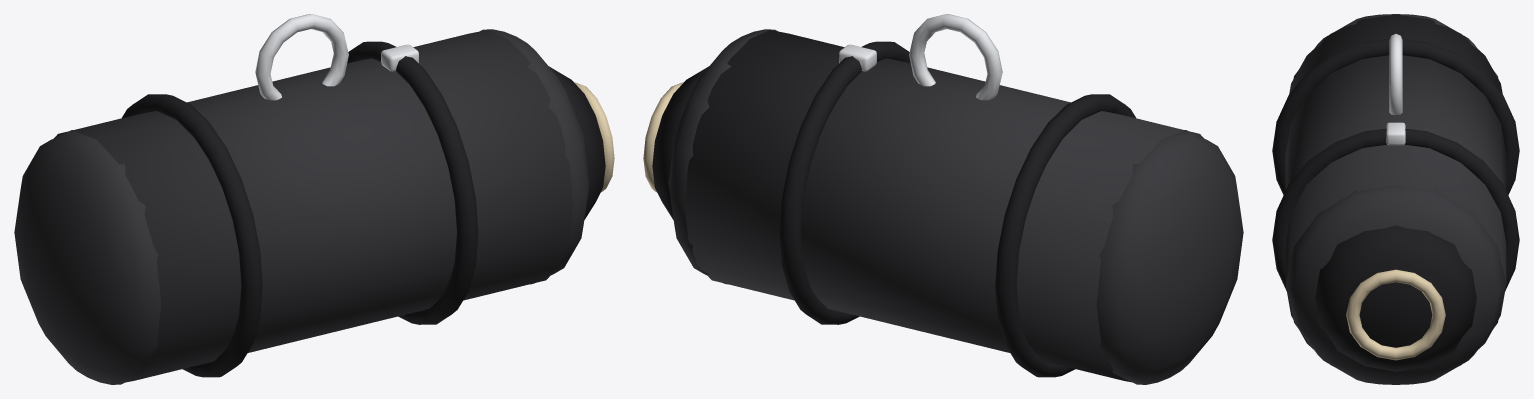
The model's file is haengematte_sack.glb.
The picture shows the model from 3 angles, left to right: view 1: azimuth 30°, elevation 25°; view 2: azimuth 150°, elevation 25°; view 3: azimuth 270°, elevation 25°; orthographic projection. The views are drawn at different scales.
Parts seen in each view (by area): view 1: Packsack; view 2: Packsack; view 3: Packsack.
Boxes of the visible parts, left/top/right/bottom form: Packsack: left=14, top=14, right=614, bottom=384; Packsack: left=643, top=14, right=1243, bottom=384; Packsack: left=1272, top=14, right=1519, bottom=384.
Bounding box in the file's own units: 0.5537 × 0.3148 × 0.258.
